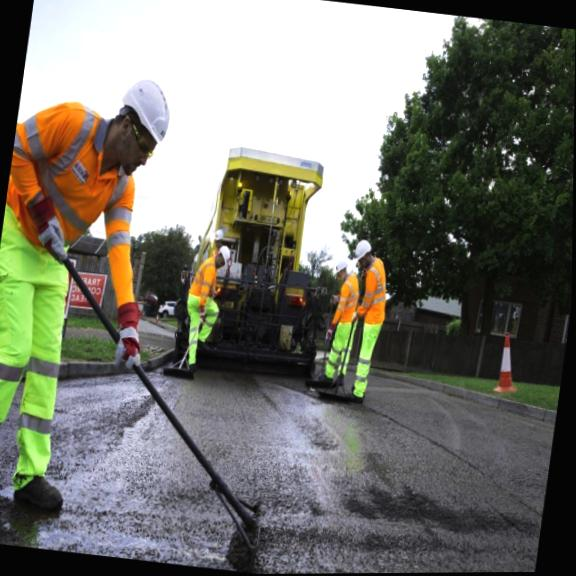safety_vest: (0, 114, 142, 260), (360, 254, 393, 322), (185, 253, 223, 302), (335, 272, 360, 325)
